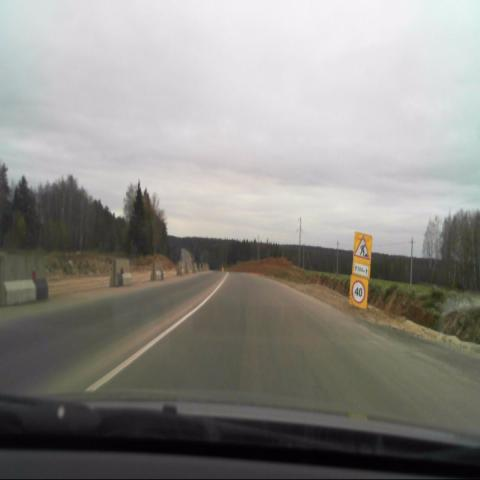3_24: (351, 279, 366, 304)
